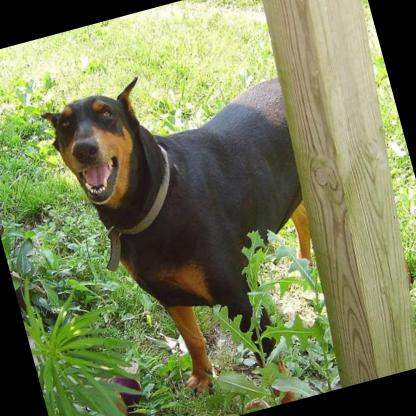Doberman: (33, 39, 357, 416)
